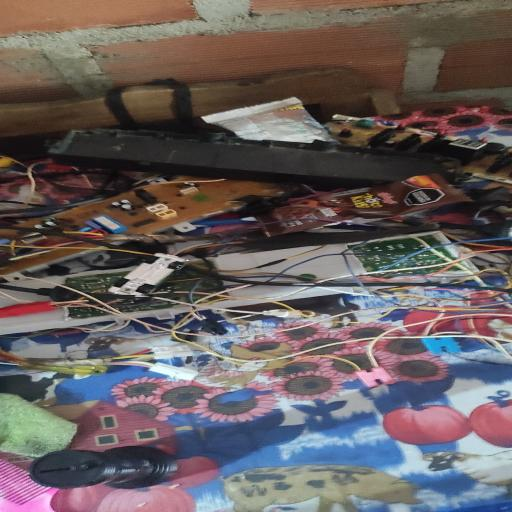Carrito: (108, 253, 188, 297)
